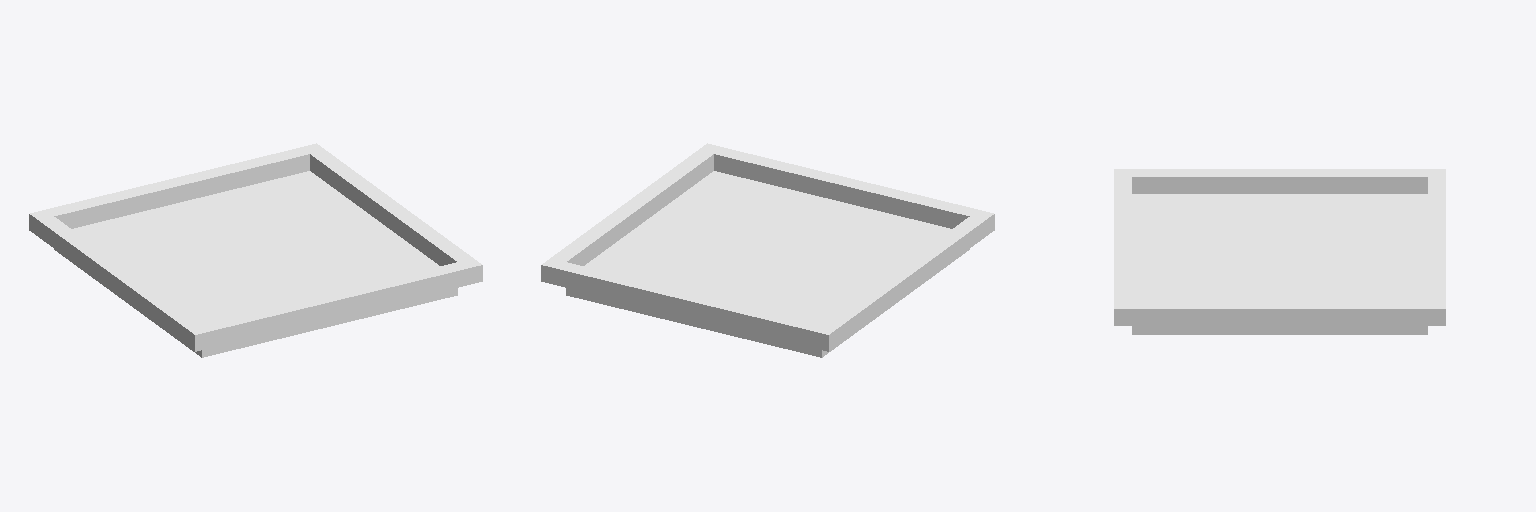
The model's file is TallBuilding03-7.obj.
The picture shows the model from 3 angles: view 1: azimuth 30°, elevation 25°; view 2: azimuth 150°, elevation 25°; view 3: azimuth 270°, elevation 25°; orthographic projection.
Visible parts, largest first — view 1: object 1; view 2: object 1; view 3: object 1.
Part boxes in pixels (x1,y1,x2,y2): object 1: (29, 143, 482, 357); object 1: (541, 143, 994, 357); object 1: (1114, 169, 1445, 334).
Size of the model in its own units: 1.8 by 0.2 by 1.8.